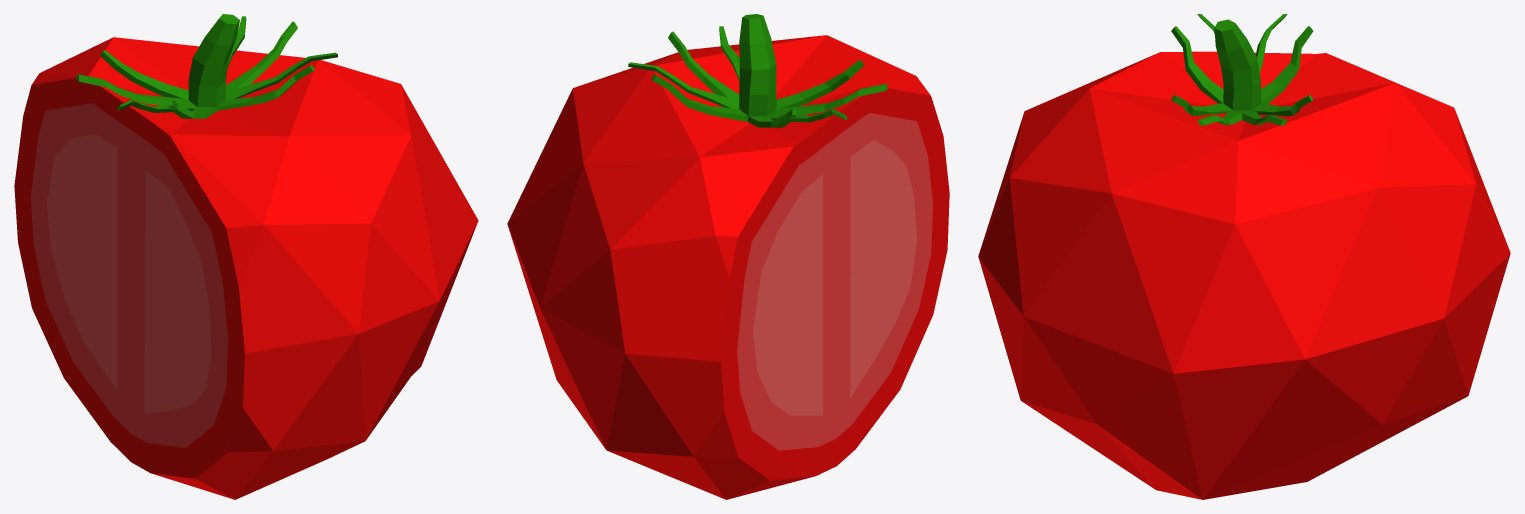
The model's file is TomatoCut1.fbx.
3 renders of one model, left to right at view 1: azimuth 30°, elevation 25°; view 2: azimuth 150°, elevation 25°; view 3: azimuth 270°, elevation 25°, orthographic.
Visible parts, largest first — view 1: Icosphere, Cylinder.001, Cylinder; view 2: Icosphere, Cylinder.001, Cylinder; view 3: Icosphere, Cylinder.001, Cylinder.
Part boxes in pixels (x1,y1,x2,y2): Icosphere: (14,37,478,499); Cylinder.001: (76,16,337,118); Cylinder: (188,14,239,106); Icosphere: (507,35,949,499); Cylinder.001: (628,26,887,127); Cylinder: (739,14,776,116); Icosphere: (978,51,1510,499); Cylinder.001: (1171,14,1313,125); Cylinder: (1214,19,1261,110).
Bounding box in the file's own units: 260 × 321 × 344.
